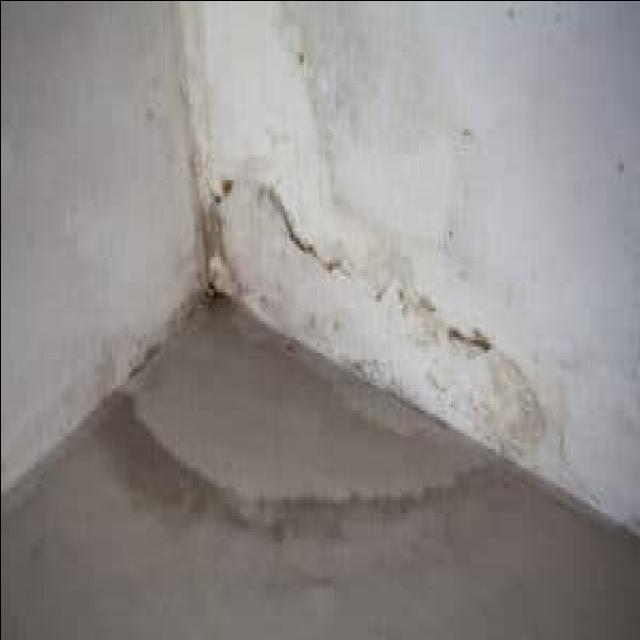leak: (202, 171, 546, 466), (109, 285, 491, 529)
